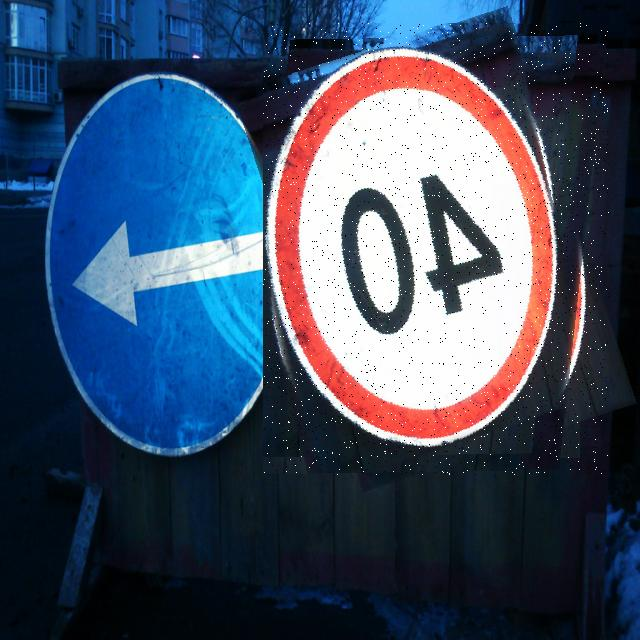speed limit 40: (263, 23, 609, 475)
